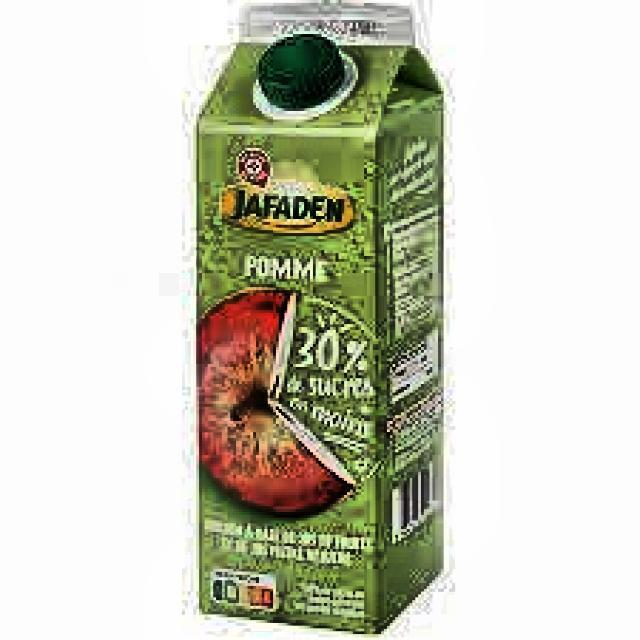cardboard: (190, 2, 447, 634)
